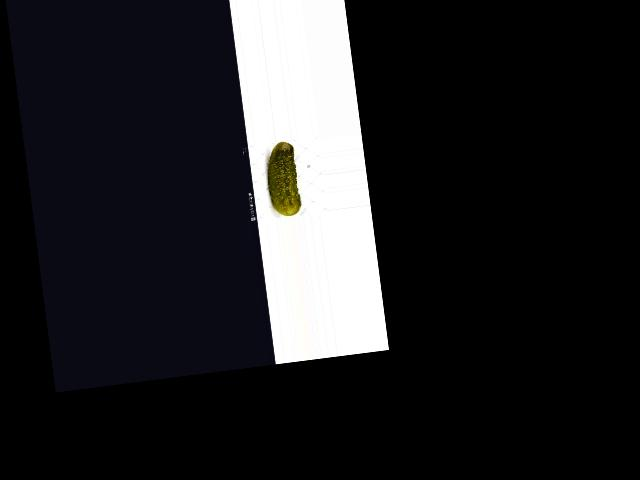cucumber: (263, 139, 302, 217)
